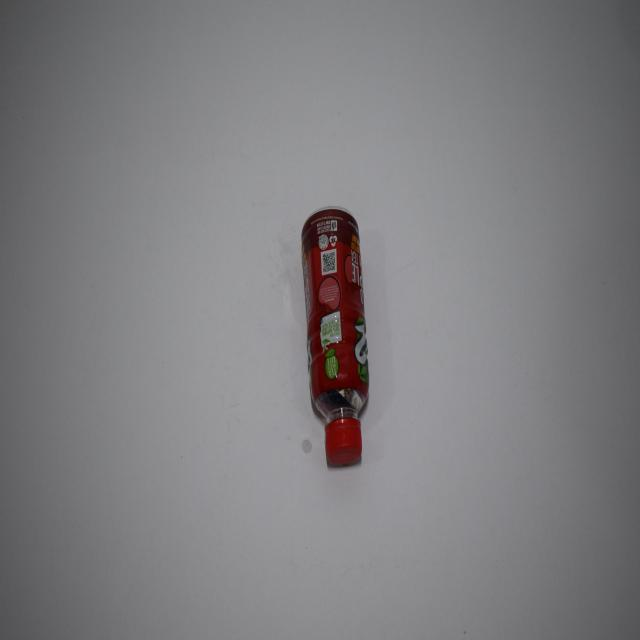bottle: (286, 194, 391, 482)
